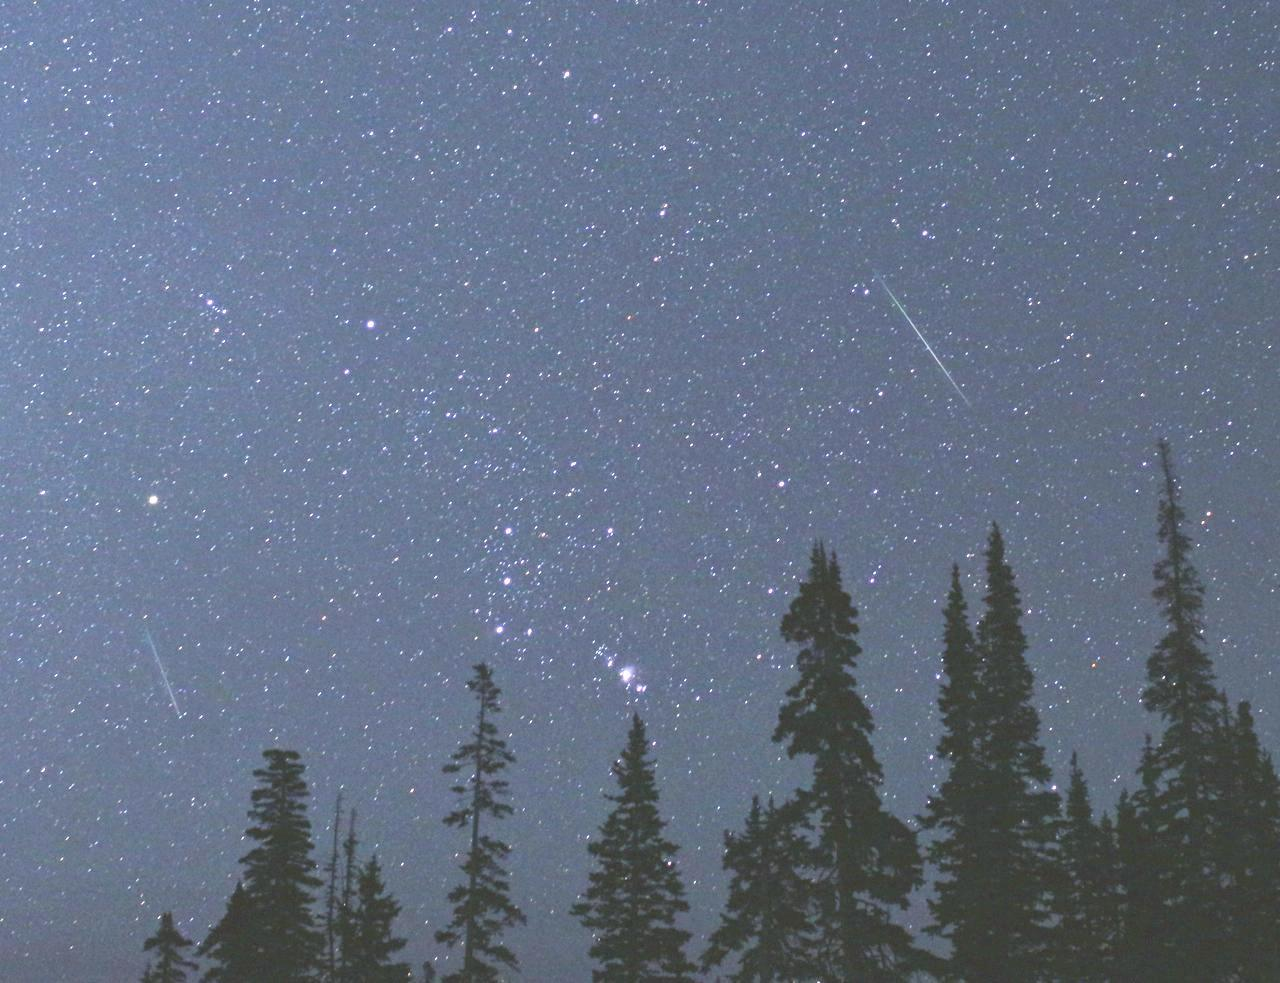meteorite: (882, 272, 971, 414), (110, 619, 219, 735)
